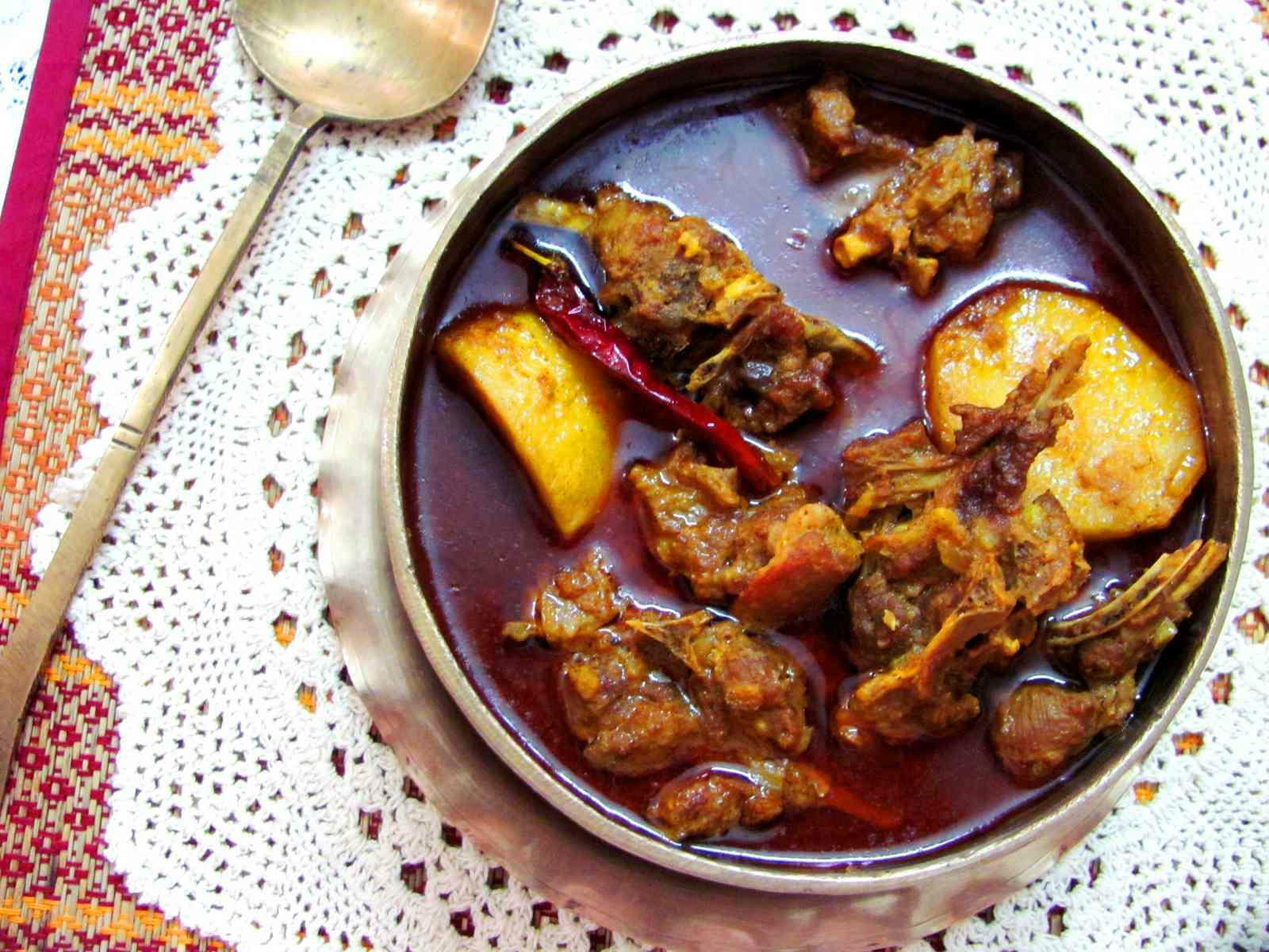MuttonCurry: (405, 74, 1229, 856)
